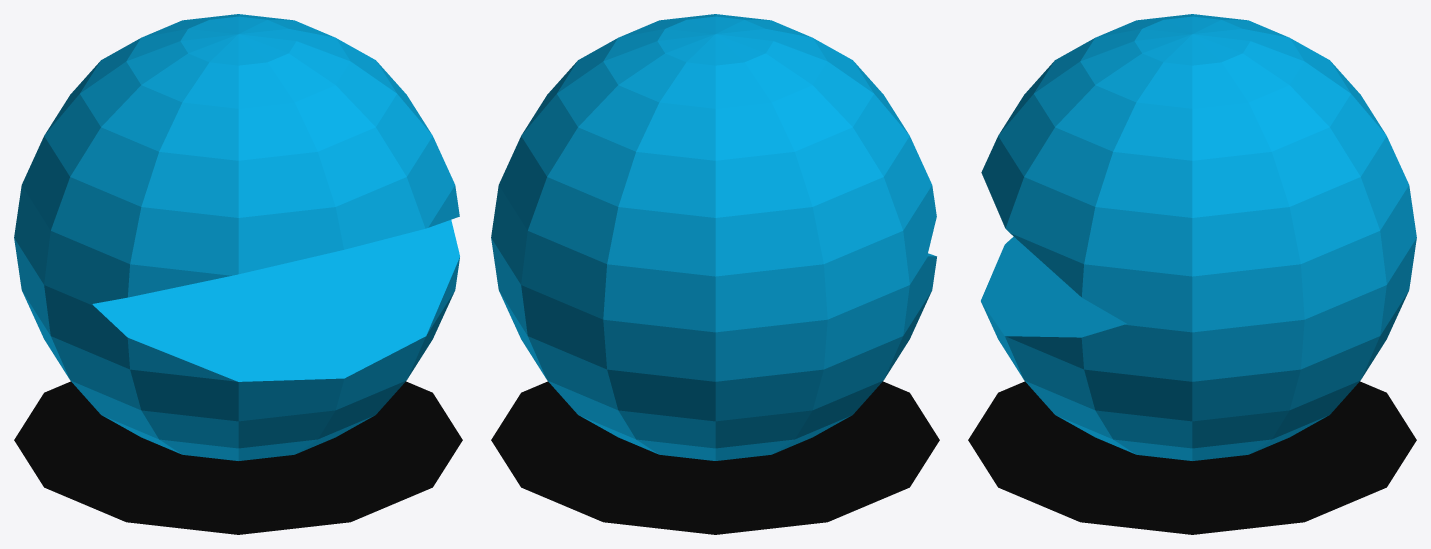
The model's file is Blue.fbx.
3 views of the same model, side by side, from view 1: azimuth 30°, elevation 25°; view 2: azimuth 150°, elevation 25°; view 3: azimuth 270°, elevation 25° (orthographic).
Visible parts, largest first — view 1: pCylinder2; view 2: pCylinder2; view 3: pCylinder2.
Part boxes in pixels (x1,y1,x2,y2): pCylinder2: (14,14,462,534); pCylinder2: (491,14,939,534); pCylinder2: (968,14,1416,534).
Bounding box in the file's own units: 0.6 × 0.6 × 0.6.
